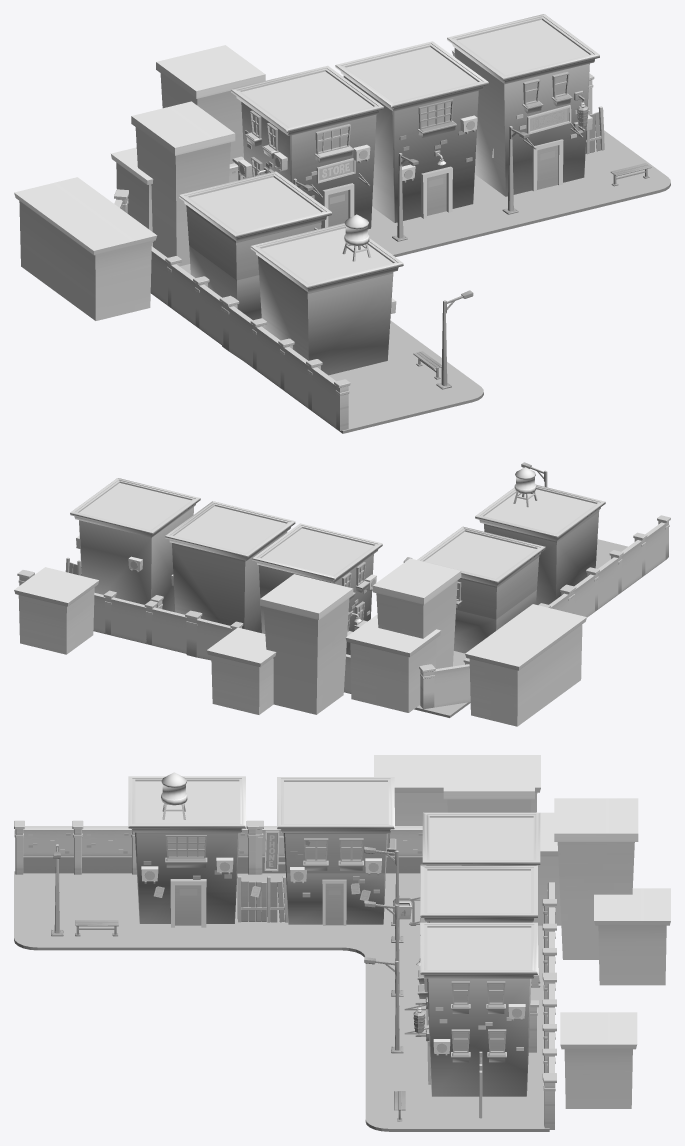
File: stylized-lowpoly-modular-city-props-buildings.fbx
3 views of the same model, one above another, from view 1: azimuth 30°, elevation 25°; view 2: azimuth 150°, elevation 25°; view 3: azimuth 270°, elevation 25° (orthographic). The views are drawn at different scales.
Parts seen in each view (by area): view 1: 1003, 247, 112, 67, 47, 892, mesh_10, 264, 545, 750, 281, 702 (+13 smaller); view 2: 247, 67, 892, 545, mesh_10, 112, 47, 264, 281, 562, 416, 988 (+10 smaller); view 3: 1003, 247, 112, mesh_10, 545, 562, 67, 416, 47, 264, 892, 750 (+13 smaller).
Boxes of the visible parts, left/top/right/bottom form: 1003: left=151, top=125, right=670, bottom=433; 247: left=447, top=14, right=599, bottom=196; 112: left=250, top=223, right=403, bottom=375; 67: left=335, top=41, right=488, bottom=222; 47: left=231, top=65, right=383, bottom=229; 892: left=14, top=177, right=157, bottom=320; mesh_10: left=179, top=171, right=331, bottom=320; 264: left=131, top=101, right=235, bottom=266; 545: left=156, top=45, right=265, bottom=164; 750: left=306, top=359, right=350, bottom=430; 281: left=111, top=147, right=153, bottom=246; 702: left=219, top=295, right=252, bottom=366; 247: left=70, top=478, right=200, bottom=612; 67: left=165, top=501, right=295, bottom=633; 892: left=465, top=604, right=586, bottom=726; 545: left=260, top=574, right=353, bottom=714; mesh_10: left=417, top=526, right=545, bottom=653; 112: left=475, top=484, right=605, bottom=604; 47: left=252, top=523, right=382, bottom=654; 264: left=372, top=558, right=461, bottom=668; 281: left=345, top=615, right=441, bottom=712; 562: left=14, top=567, right=99, bottom=654; 416: left=206, top=627, right=276, bottom=714; 988: left=419, top=664, right=470, bottom=709; 1003: left=14, top=871, right=549, bottom=1131; 247: left=404, top=922, right=540, bottom=1096; 112: left=128, top=776, right=246, bottom=923; mesh_10: left=277, top=777, right=394, bottom=924; 545: left=554, top=798, right=638, bottom=959; 562: left=560, top=1012, right=637, bottom=1108; 67: left=420, top=865, right=537, bottom=935; 416: left=594, top=888, right=670, bottom=985; 47: left=420, top=812, right=540, bottom=865; 264: left=443, top=760, right=534, bottom=812; 892: left=374, top=755, right=540, bottom=825; 750: left=14, top=820, right=83, bottom=874.
Bounding box in the file's own units: 2787 × 648 × 2604.
